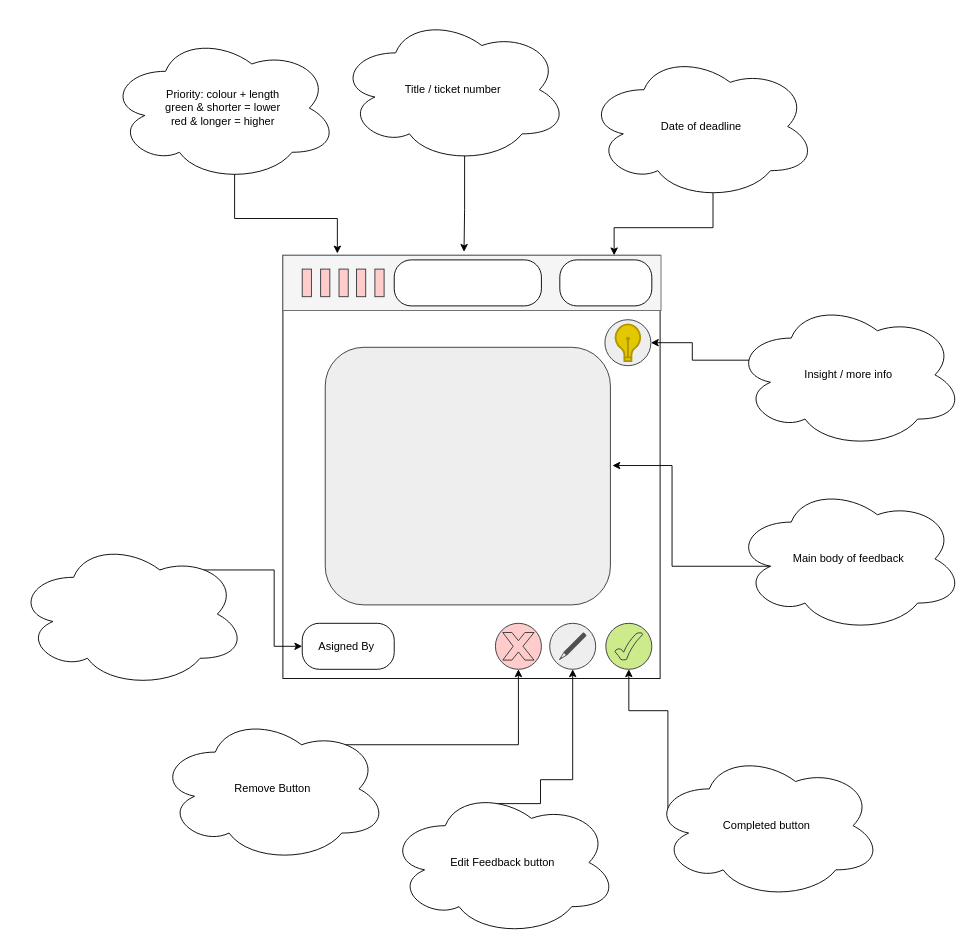
Image size: 980x952. Some labels were removed from this diagram. Here are the shapes that lost their labels. From the top down, the centre of each, then its label:
At [467,282]: "Name / ticket num".
At [605,282]: "Deadline".
At [467,475]: "Main text for feedback".
At [130,614]: "Author".
